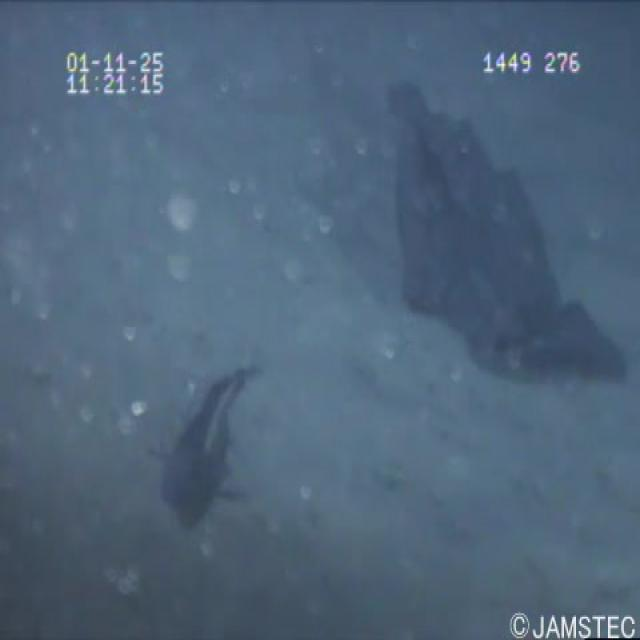plastic: (372, 70, 633, 412)
